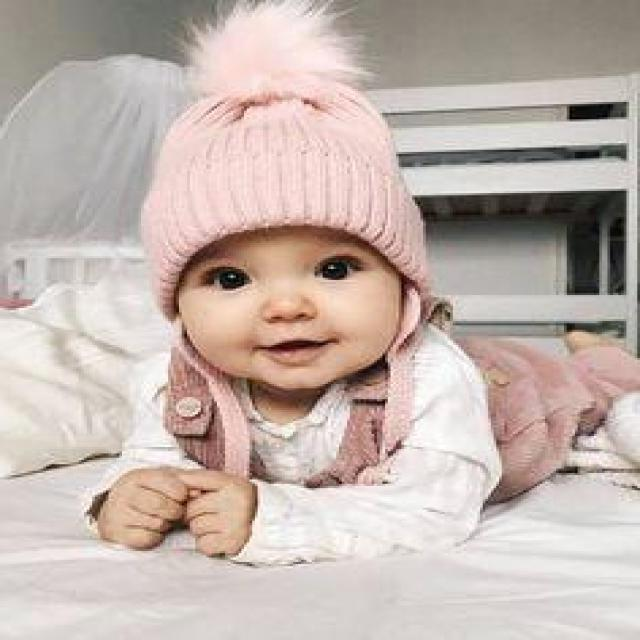child: (62, 37, 632, 551)
